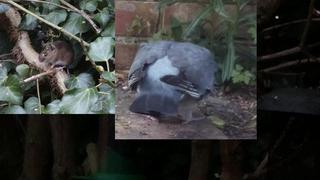mouse: (38, 40, 75, 75)
wood pigeon: (127, 40, 217, 126)
